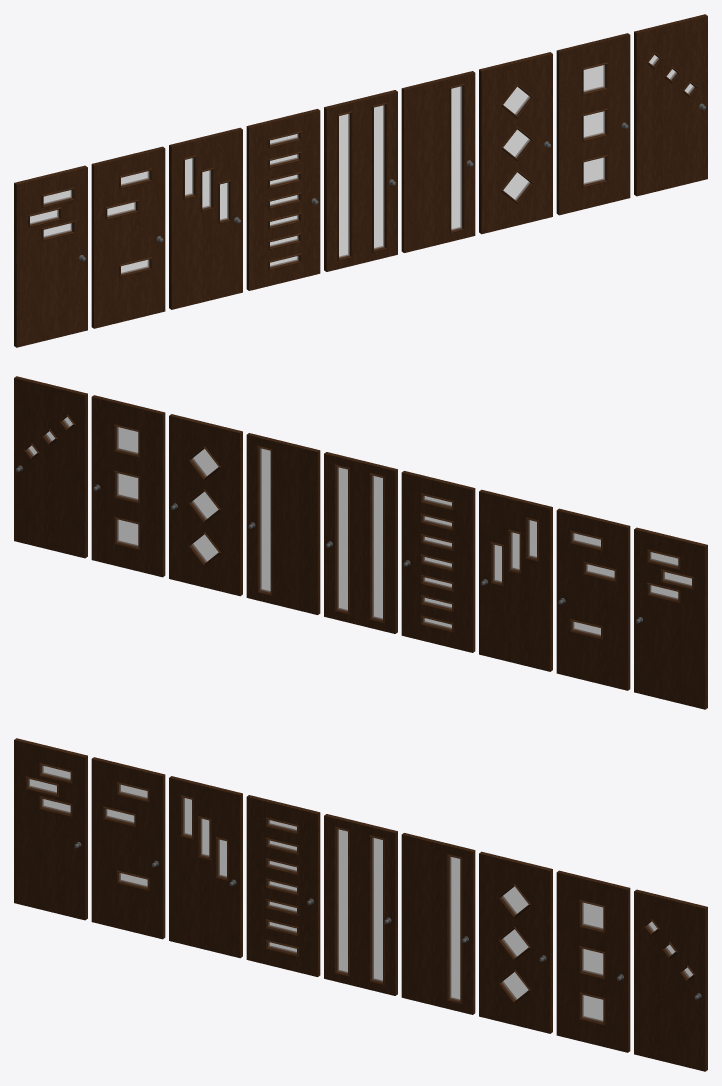
Rendered from front-gate-door.glb.
3 views of the same model, one above another, from view 1: azimuth 30°, elevation 25°; view 2: azimuth 150°, elevation 25°; view 3: azimuth 330°, elevation 25° (orthographic).
Parts seen in each view (by area): view 1: doorFront_B_02, doorFront_H_08, doorFront_D_04, doorFront_F_06, doorFront_A_01, doorFront_G_07, doorFront_E_05, doorFront_C_03, doorFront_I_09; view 2: doorFront_B_02, doorFront_H_08, doorFront_D_04, doorFront_F_06, doorFront_A_01, doorFront_G_07, doorFront_E_05, doorFront_C_03, doorFront_I_09; view 3: doorFront_B_02, doorFront_H_08, doorFront_D_04, doorFront_F_06, doorFront_A_01, doorFront_G_07, doorFront_E_05, doorFront_C_03, doorFront_I_09.
Part boxes in pixels (x1=…): doorFront_B_02: x1=91, y1=146, x2=165, y2=328; doorFront_H_08: x1=556, y1=33, x2=630, y2=215; doorFront_D_04: x1=246, y1=109, x2=320, y2=290; doorFront_F_06: x1=401, y1=71, x2=475, y2=252; doorFront_A_01: x1=14, y1=165, x2=87, y2=347; doorFront_G_07: x1=479, y1=52, x2=552, y2=234; doorFront_E_05: x1=324, y1=90, x2=397, y2=271; doorFront_C_03: x1=169, y1=127, x2=242, y2=309; doorFront_I_09: x1=634, y1=14, x2=707, y2=196; doorFront_B_02: x1=556, y1=508, x2=630, y2=690; doorFront_H_08: x1=91, y1=395, x2=165, y2=577; doorFront_D_04: x1=401, y1=471, x2=475, y2=652; doorFront_F_06: x1=246, y1=433, x2=320, y2=614; doorFront_A_01: x1=634, y1=527, x2=707, y2=709; doorFront_G_07: x1=169, y1=414, x2=242, y2=596; doorFront_E_05: x1=324, y1=452, x2=397, y2=633; doorFront_C_03: x1=479, y1=489, x2=552, y2=671; doorFront_I_09: x1=14, y1=376, x2=87, y2=558; doorFront_B_02: x1=91, y1=757, x2=165, y2=939; doorFront_H_08: x1=556, y1=870, x2=630, y2=1052; doorFront_D_04: x1=246, y1=795, x2=320, y2=976; doorFront_F_06: x1=401, y1=833, x2=475, y2=1014; doorFront_A_01: x1=14, y1=738, x2=87, y2=920; doorFront_G_07: x1=479, y1=851, x2=552, y2=1033; doorFront_E_05: x1=324, y1=814, x2=397, y2=995; doorFront_C_03: x1=169, y1=776, x2=242, y2=958; doorFront_I_09: x1=634, y1=889, x2=707, y2=1071.
Size of the model in its own units: 8.92 by 2.01 by 0.1971.
Materials: 3 (1 with a texture image).
